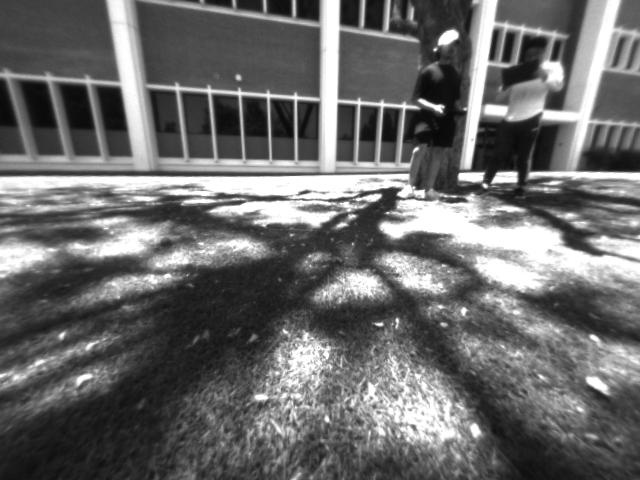dogtoy: (154, 232, 183, 252)
